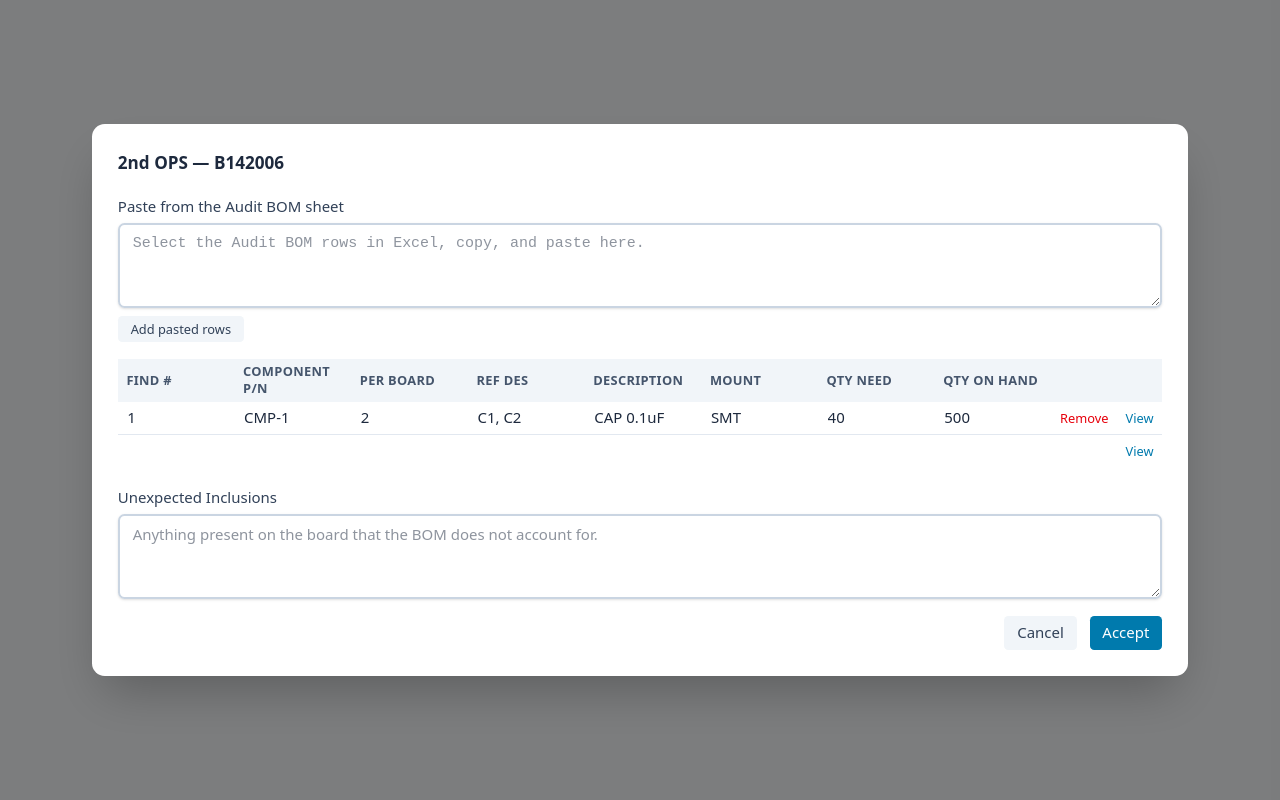
Test case: SecondOpsEntryModal › re-enables ACCEPT after a rejected save and keeps the grid populated
This screenshot has width=1280, height=800.
Step 1. Click the button with test id "second-ops-accept-btn" → (1126, 633), box x1=1090 y1=616 x2=1162 y2=650
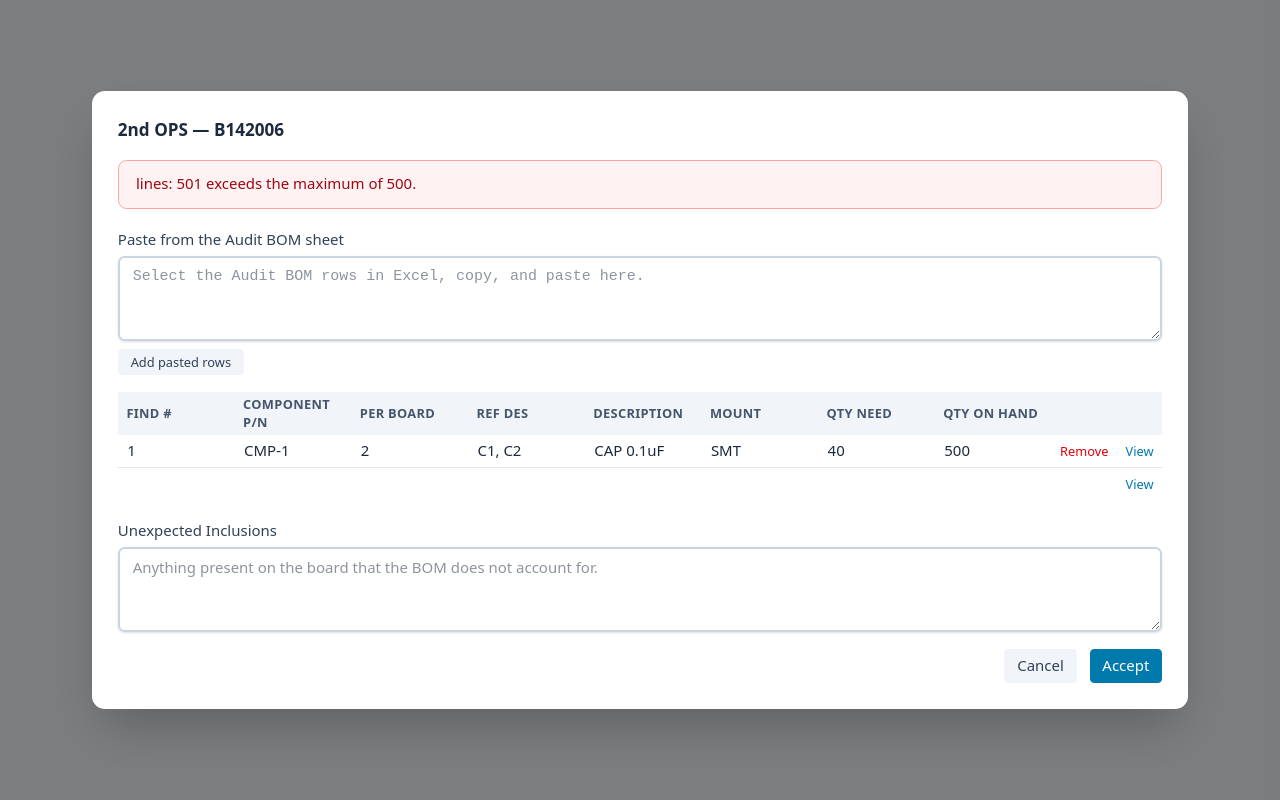
Expected: the button with test id "second-ops-accept-btn" is enabled, x1=1090 y1=649 x2=1162 y2=683
Now the text with test id "second-ops-entry-banner-error" shows "exceeds the maximum", box x1=136 y1=173 x2=416 y2=193
